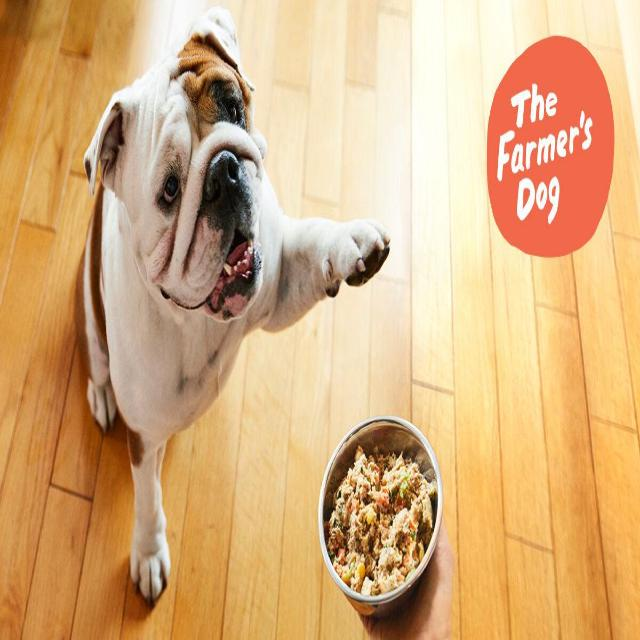Dog: (46, 15, 358, 441)
